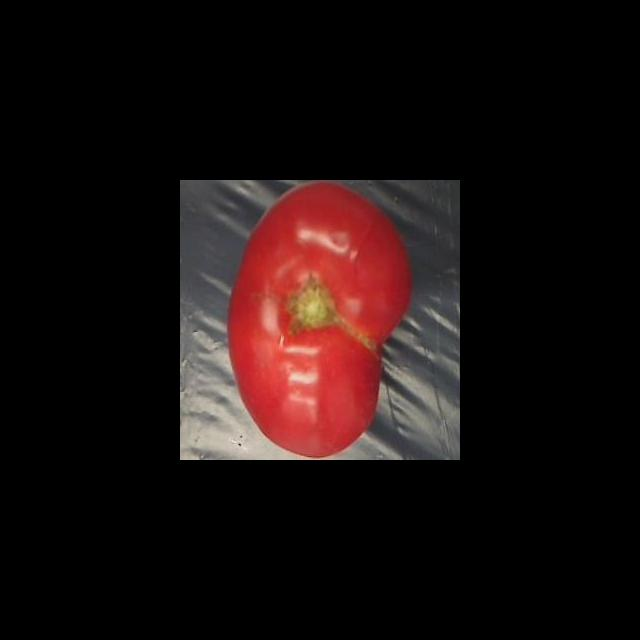tomato: (223, 181, 421, 460)
